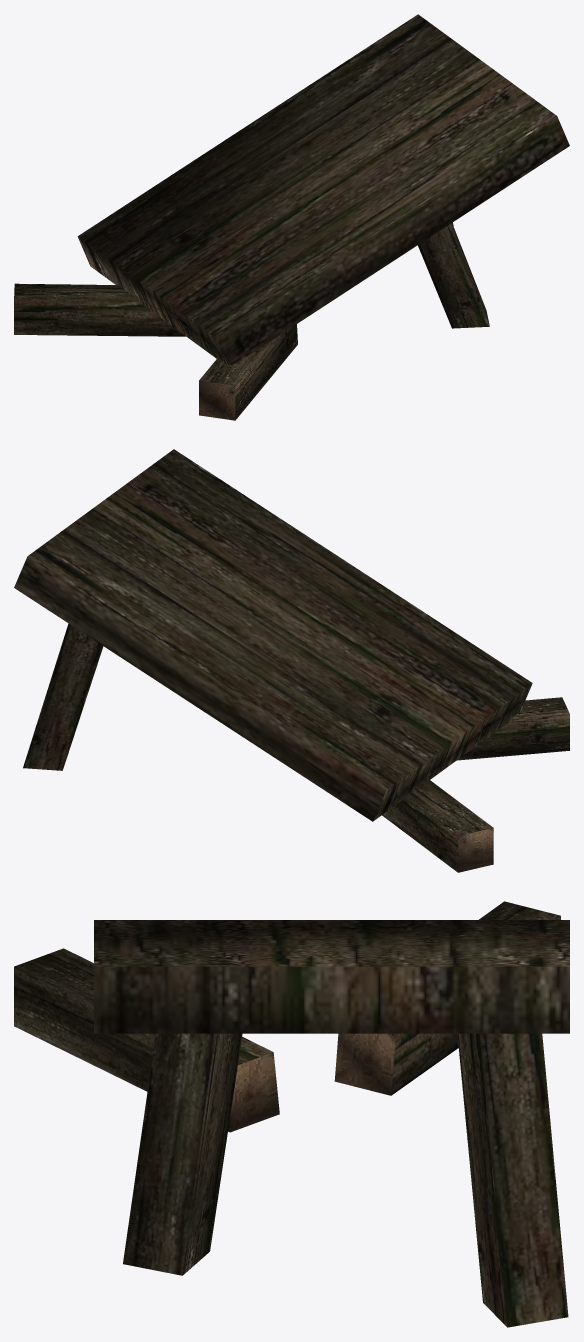
The model's file is OC_TABLE_V2_DESTROYED.glb.
The picture shows the model from 3 angles, top to bottom: view 1: azimuth 30°, elevation 25°; view 2: azimuth 150°, elevation 25°; view 3: azimuth 270°, elevation 25°; orthographic projection. The views are drawn at different scales.
Parts seen in each view (by area): view 1: Mesh; view 2: Mesh; view 3: Mesh.
Boxes of the visible parts, bbox=[...] form: Mesh: bbox=[14, 14, 569, 420]; Mesh: bbox=[14, 449, 569, 872]; Mesh: bbox=[14, 901, 569, 1327].
Bounding box in the file's own units: 1.85 × 0.8186 × 1.18.
2 materials, 2 textured.
